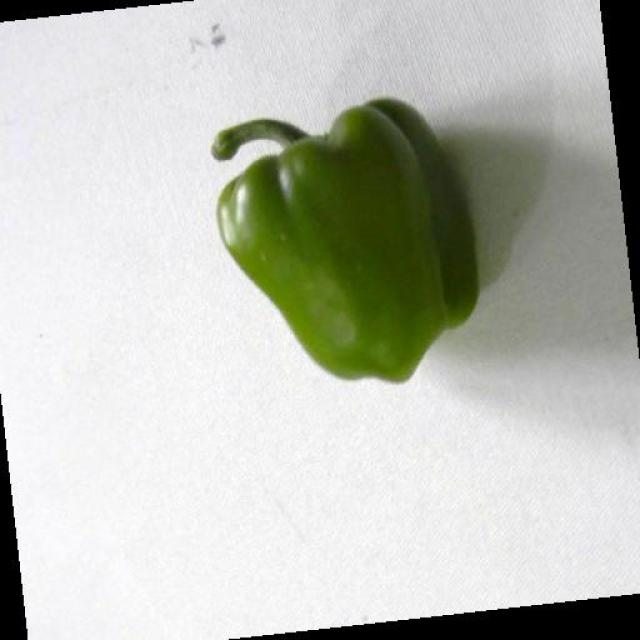Fresh_Capsicum: (180, 93, 502, 384)
